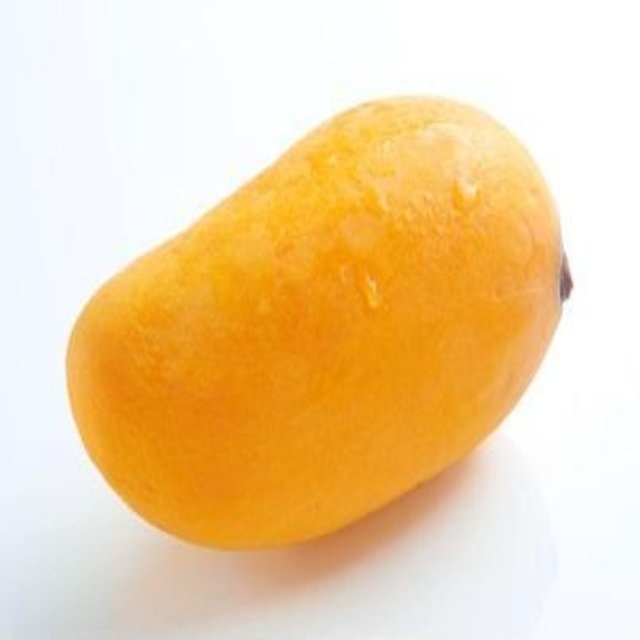mango: (65, 91, 576, 557)
